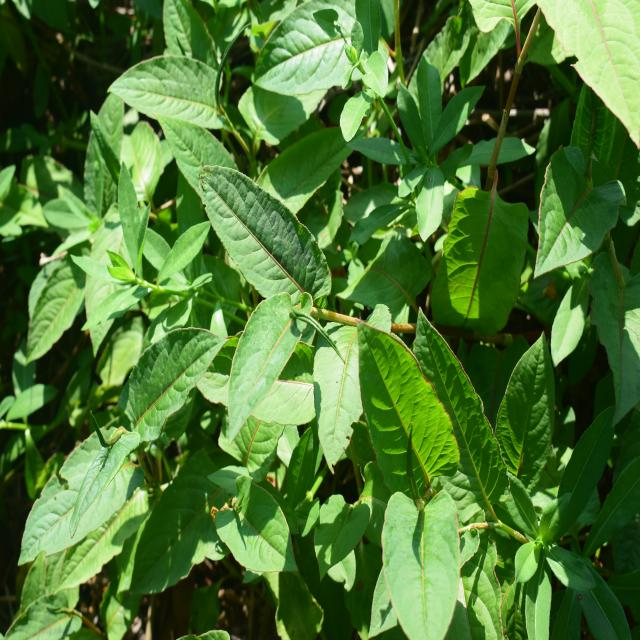Chinese_knotweed: (359, 287, 516, 630), (203, 155, 362, 480)
